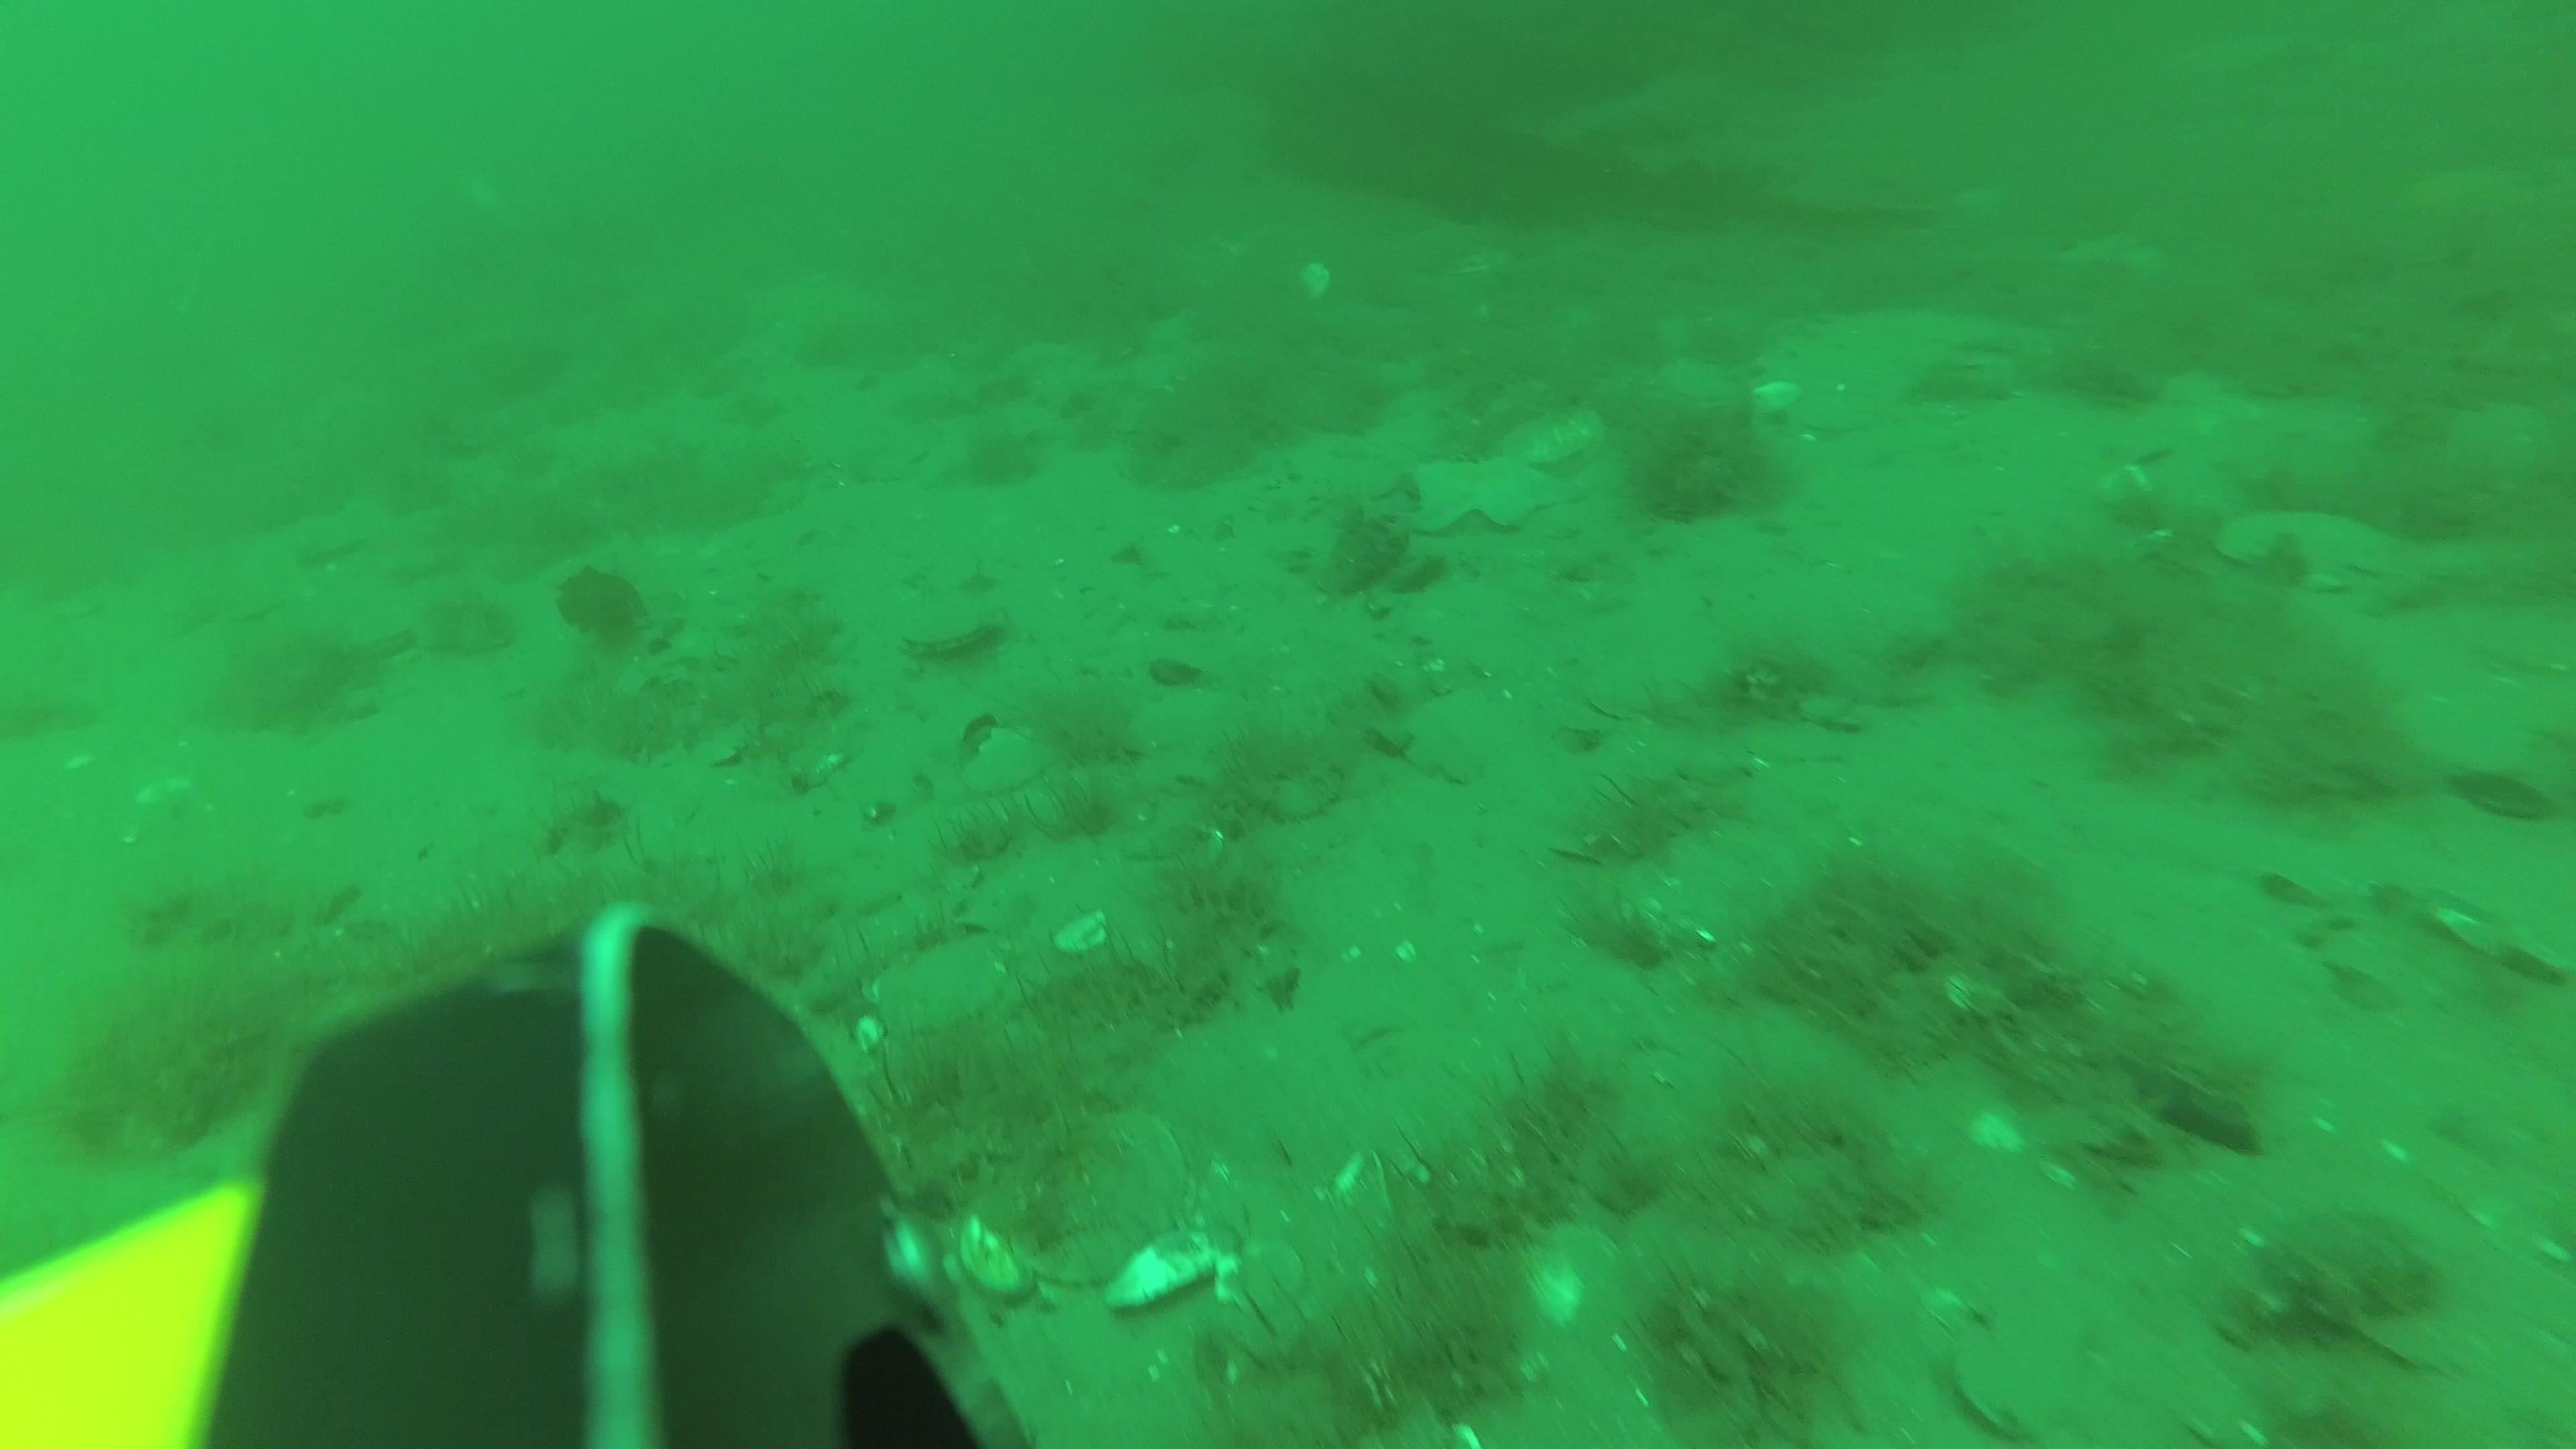scallop: (994, 1116, 1177, 1283), (867, 943, 1039, 1062), (2219, 495, 2385, 589), (1506, 403, 1615, 465), (1642, 356, 1744, 419), (893, 600, 1001, 655), (1228, 1242, 1300, 1322), (1445, 246, 1507, 280), (1297, 260, 1336, 311)
starfish: (1403, 455, 1568, 531)
